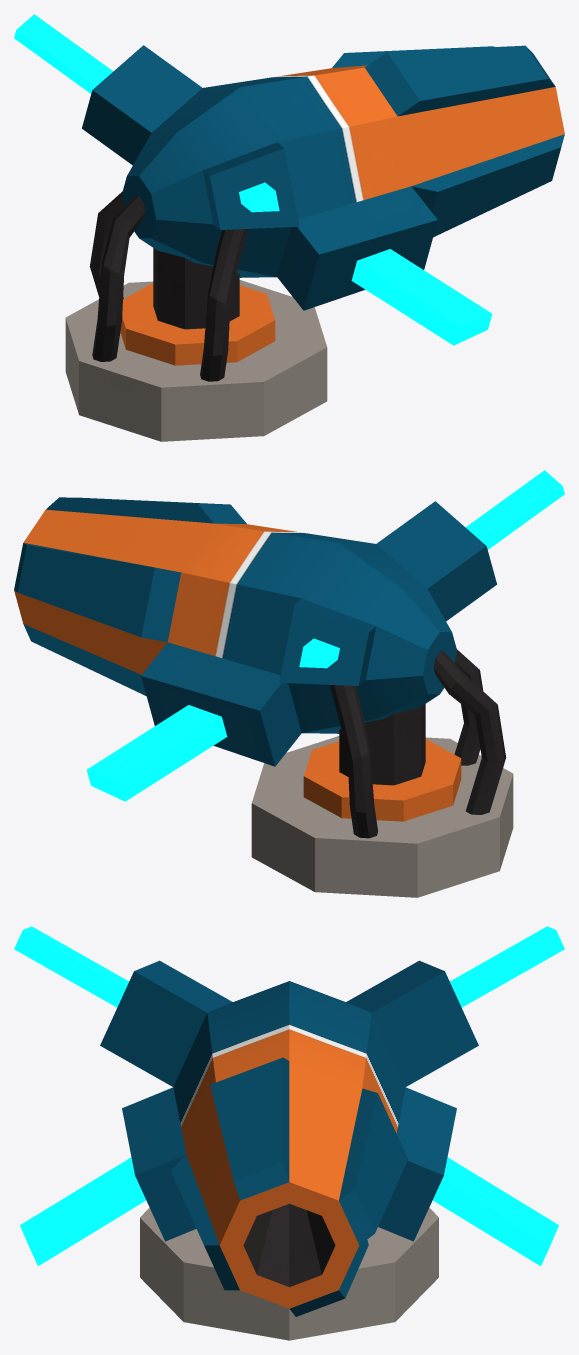
File: CannonBig.fbx
3 renders of one model, top to bottom at view 1: azimuth 30°, elevation 25°; view 2: azimuth 150°, elevation 25°; view 3: azimuth 270°, elevation 25°, orthographic. The views are drawn at different scales.
Parts seen in each view (by area): view 1: canhaozao; view 2: canhaozao; view 3: canhaozao.
Boxes of the visible parts, x1=… form: canhaozao: x1=14, y1=14, x2=564, y2=441; canhaozao: x1=14, y1=470, x2=564, y2=897; canhaozao: x1=14, y1=926, x2=564, y2=1340.
Bounding box in the file's own units: 242 × 150 × 230.
